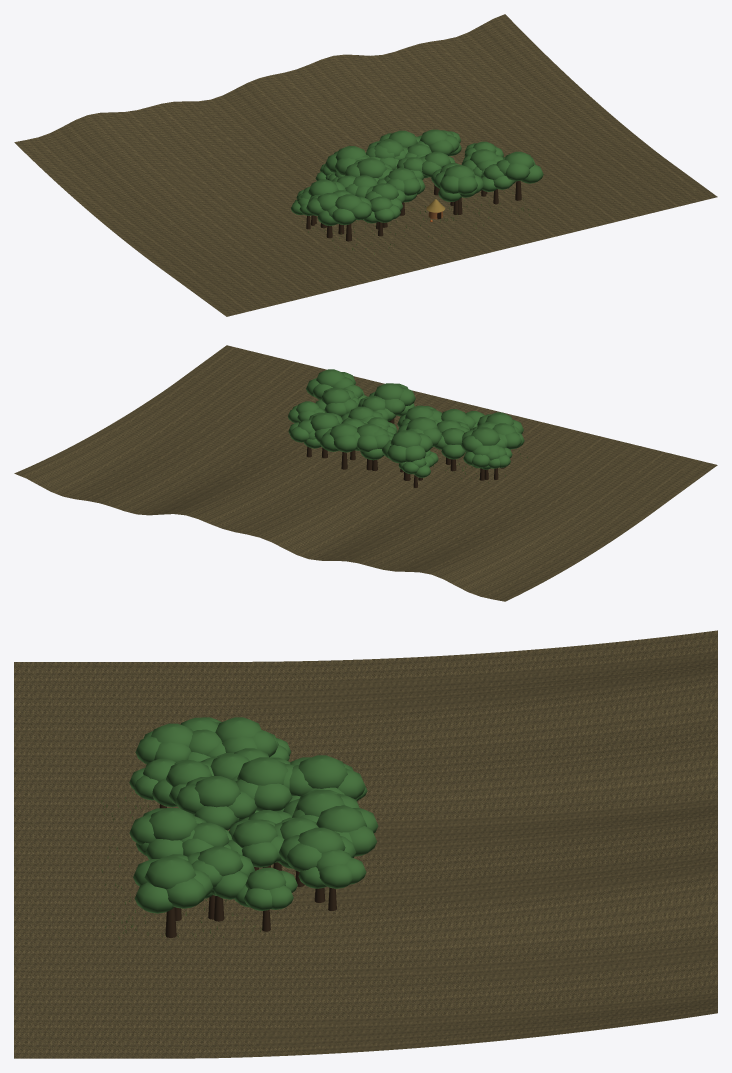
The model's file is foret.glb.
The picture shows the model from 3 angles, top to bottom: view 1: azimuth 30°, elevation 25°; view 2: azimuth 150°, elevation 25°; view 3: azimuth 270°, elevation 25°; orthographic projection. The views are drawn at different scales.
Visible parts, largest first — view 1: sol, decor; view 2: sol, decor; view 3: sol, decor.
Part boxes in pixels (bbox=[...]): sol: bbox=[14, 14, 717, 316]; decor: bbox=[291, 129, 543, 254]; sol: bbox=[14, 345, 717, 601]; decor: bbox=[288, 369, 527, 487]; sol: bbox=[14, 630, 717, 1058]; decor: bbox=[99, 717, 378, 939].
Bounding box in the file's own units: 120 × 11.28 × 90.
9 materials, 1 textured.
